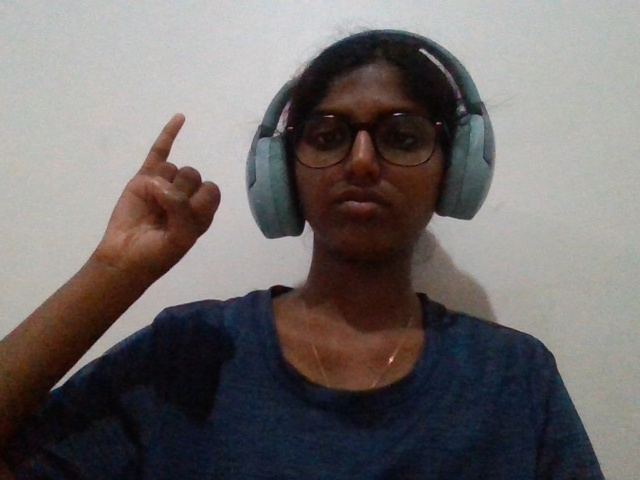I: (81, 111, 239, 315)
